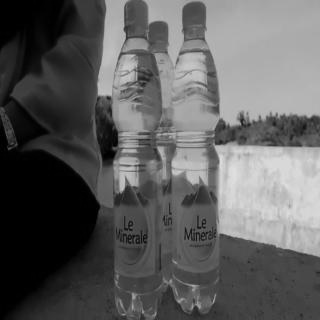plastic_bottles: (169, 0, 221, 320), (113, 0, 163, 320)
